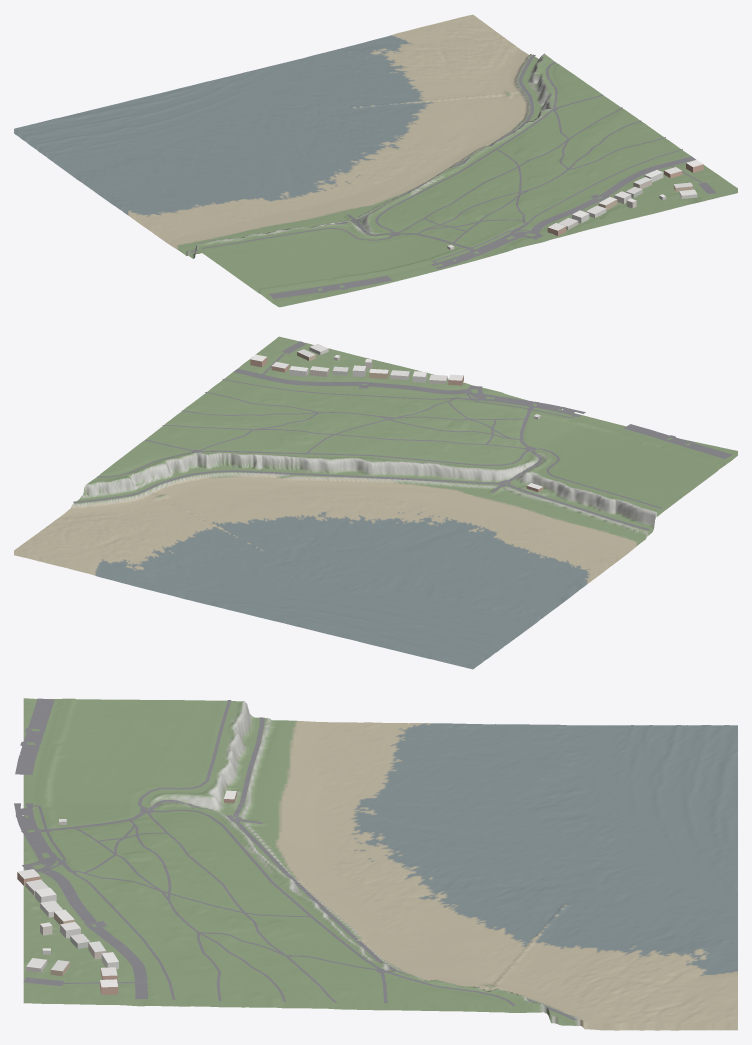
The picture shows the model from 3 angles, top to bottom: view 1: azimuth 30°, elevation 25°; view 2: azimuth 150°, elevation 25°; view 3: azimuth 270°, elevation 25°; orthographic projection. The views are drawn at different scales.
Visible parts, largest first — view 1: prim0, prim2, prim1; view 2: prim0, prim2, prim1; view 3: prim0, prim2, prim1.
Boxes of the visible parts, left/top/right/bottom form: prim0: left=14, top=14, right=737, bottom=307; prim2: left=190, top=54, right=715, bottom=298; prim1: left=320, top=160, right=703, bottom=249; prim0: left=14, top=336, right=737, bottom=669; prim2: left=73, top=341, right=732, bottom=530; prim1: left=250, top=344, right=543, bottom=492; prim0: left=23, top=698, right=737, bottom=1030; prim2: left=14, top=698, right=576, bottom=1020; prim1: left=17, top=790, right=236, bottom=995.
Bounding box in the file's own units: 515 × 35.17 × 519.
